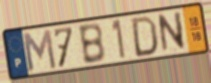1: (110, 18, 127, 61)
7: (52, 25, 75, 69)
B: (76, 21, 107, 66)
D: (131, 14, 159, 59)
M: (20, 28, 58, 73)
N: (156, 9, 187, 55)
